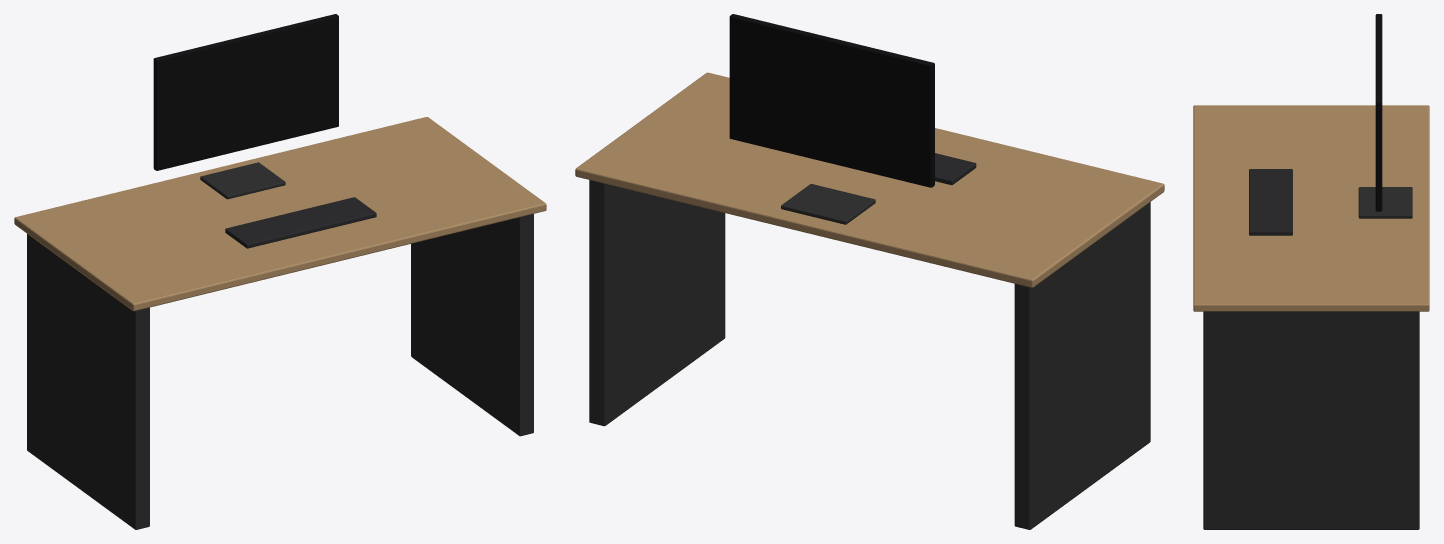
The model's file is schreibtisch.glb.
3 views of the same model, side by side, from view 1: azimuth 30°, elevation 25°; view 2: azimuth 150°, elevation 25°; view 3: azimuth 270°, elevation 25° (orthographic). The views are drawn at different scales.
Parts seen in each view (by area): view 1: Platte, Wange-1, Wange1, Bildschirm, Tastatur, Monitorfuß; view 2: Platte, Wange-1, Wange1, Bildschirm, Monitorfuß, Tastatur; view 3: Wange1, Platte, Tastatur, Monitorfuß, Bildschirm.
Boxes of the visible parts, x1,y1,x2,y2 form: Platte: (14, 117, 546, 311); Wange-1: (27, 234, 149, 529); Wange1: (411, 214, 533, 436); Bildschirm: (153, 14, 338, 170); Tastatur: (225, 197, 376, 248); Monitorfuß: (200, 162, 285, 199); Platte: (575, 72, 1164, 287); Wange-1: (1014, 202, 1150, 529); Wange1: (589, 180, 725, 426); Bildschirm: (729, 14, 934, 187); Monitorfuß: (781, 184, 875, 224); Tastatur: (935, 153, 976, 185); Wange1: (1203, 311, 1419, 529); Platte: (1193, 105, 1429, 311); Tastatur: (1249, 169, 1292, 235); Monitorfuß: (1358, 187, 1412, 218); Bildschirm: (1375, 14, 1382, 211).
Size of the model in its own units: 1.4 by 1.23 by 0.7.
